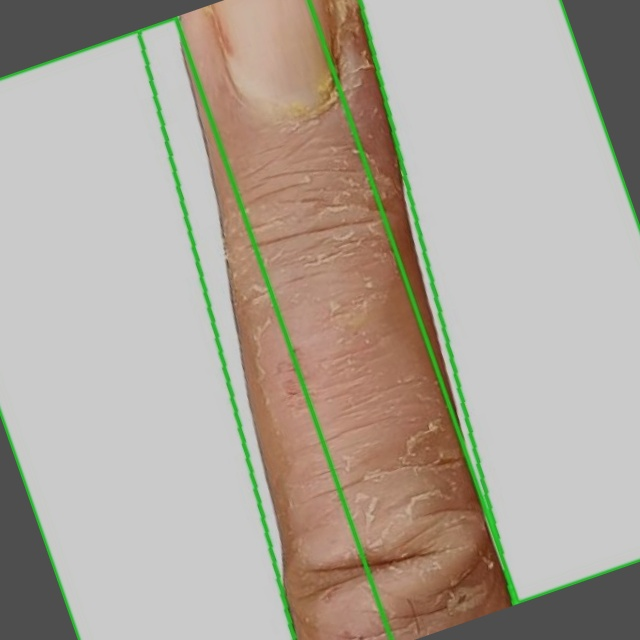Eczema: (0, 17, 391, 639), (138, 0, 514, 639), (309, 0, 639, 603)
